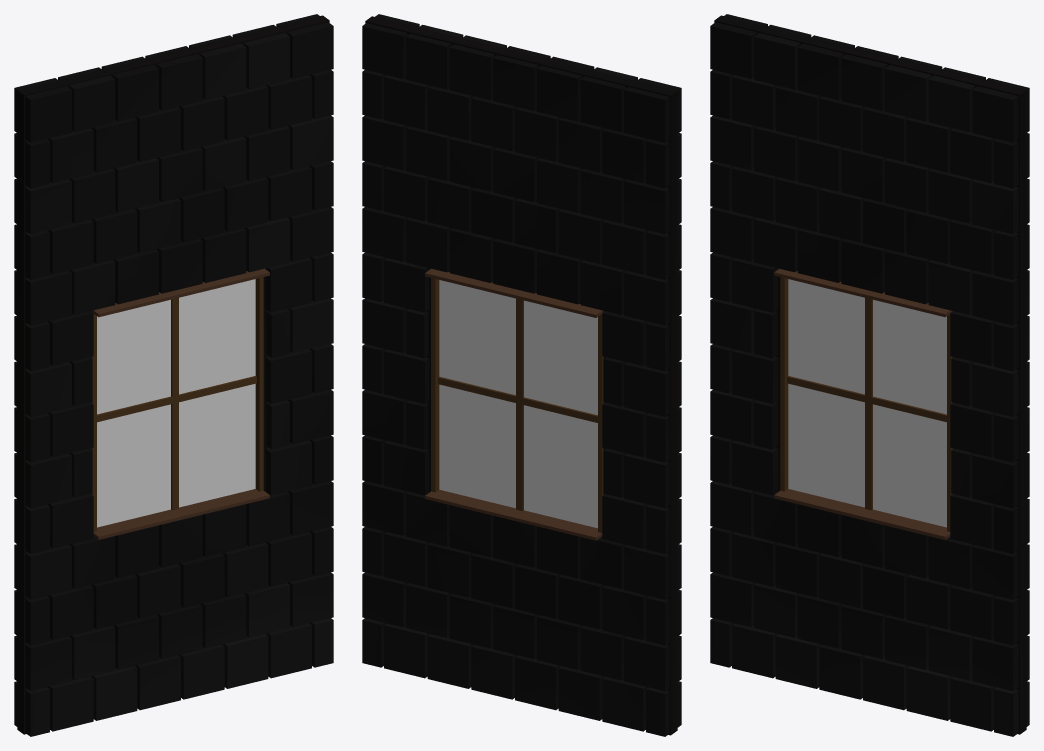
Rendered from wall_window.fbx.
3 renders of one model, left to right at view 1: azimuth 30°, elevation 25°; view 2: azimuth 150°, elevation 25°; view 3: azimuth 330°, elevation 25°, orthographic.
Parts seen in each view (by area): view 1: Wall_Window; view 2: Wall_Window; view 3: Wall_Window.
Boxes of the visible parts, x1,y1,x2,y2 form: Wall_Window: [14, 14, 333, 736]; Wall_Window: [362, 14, 681, 736]; Wall_Window: [710, 14, 1029, 736].
Size of the model in its own units: 100 by 200 by 12.23.
